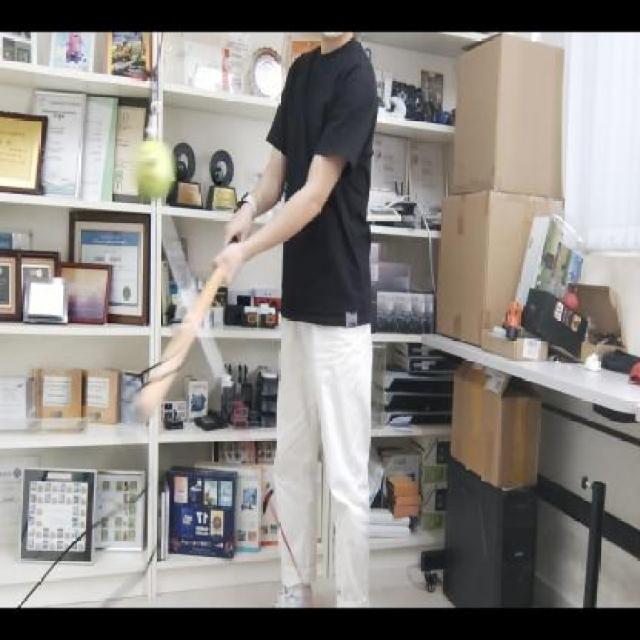baseball: (133, 139, 175, 210)
